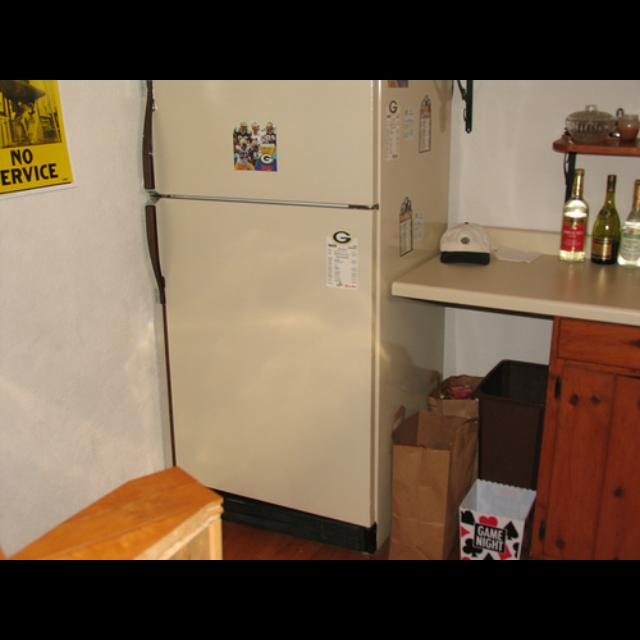Refrigerator: (143, 83, 455, 532)
